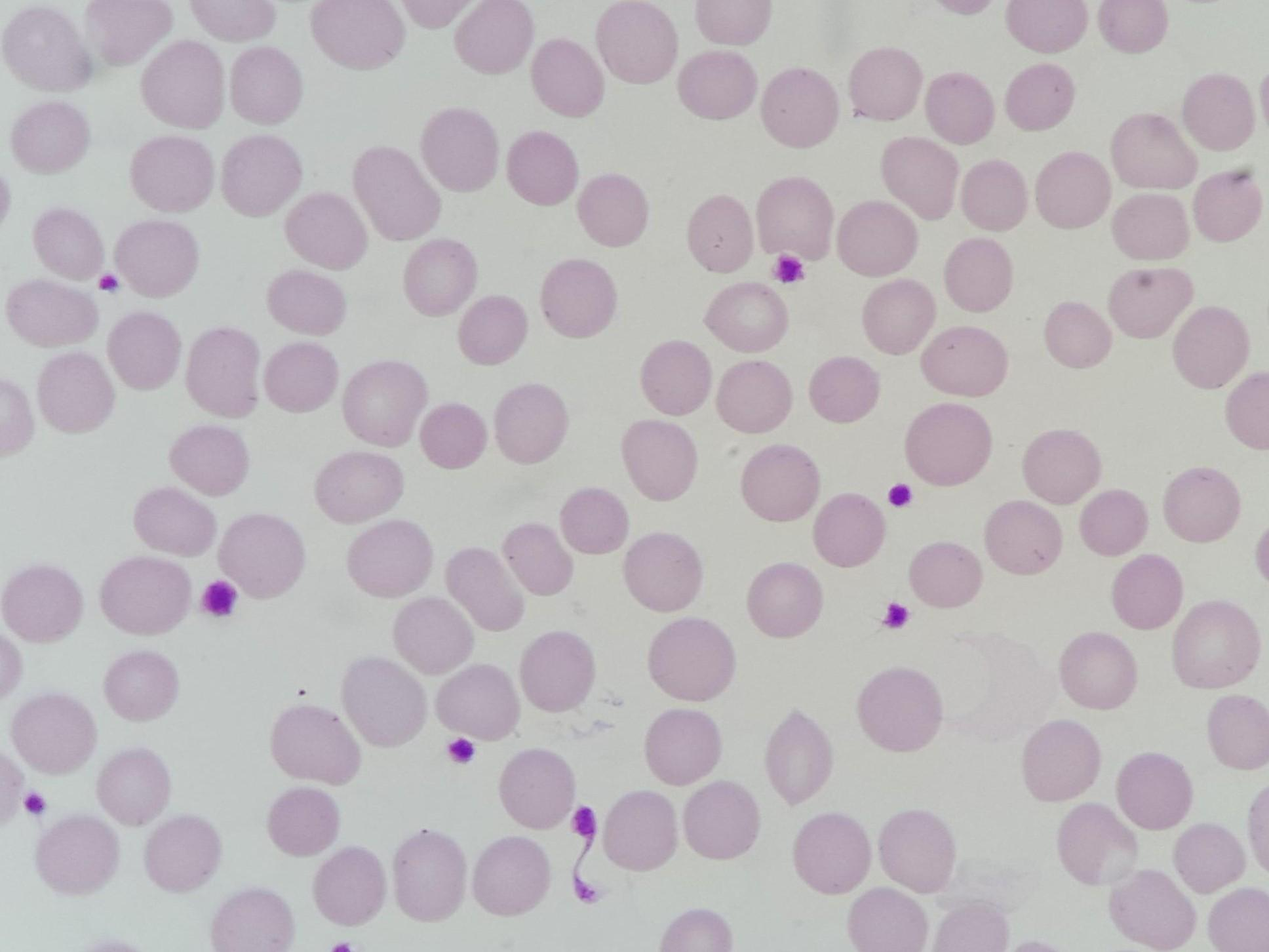Uninfected: (0, 9, 95, 97), (1171, 601, 1261, 690), (354, 147, 442, 237), (342, 658, 430, 748), (342, 360, 429, 447), (854, 668, 942, 754), (217, 515, 305, 600), (10, 692, 98, 777), (647, 618, 735, 703), (140, 39, 223, 129), (271, 705, 361, 788), (100, 555, 193, 635), (753, 175, 837, 262), (130, 134, 218, 217), (221, 135, 307, 219), (875, 809, 958, 896), (433, 663, 520, 745), (34, 815, 121, 897), (186, 328, 266, 417), (421, 108, 503, 194), (391, 594, 477, 676), (906, 404, 993, 485), (444, 547, 527, 631), (284, 193, 371, 273), (346, 518, 434, 597), (7, 278, 99, 353), (115, 219, 201, 299), (392, 834, 470, 922), (312, 0, 405, 73), (107, 311, 188, 394), (1057, 803, 1138, 886), (1108, 871, 1194, 949), (316, 451, 405, 526), (3, 565, 86, 645), (36, 351, 116, 434), (497, 748, 577, 831), (519, 631, 599, 713), (793, 814, 873, 896), (472, 837, 552, 918), (133, 485, 219, 560), (766, 713, 835, 806), (624, 533, 705, 612), (881, 138, 959, 220), (644, 709, 724, 788), (143, 815, 223, 894), (597, 4, 678, 82), (682, 782, 760, 863), (601, 792, 679, 873), (169, 423, 251, 500), (451, 0, 534, 76), (1113, 113, 1196, 189), (760, 68, 838, 148), (1023, 720, 1101, 800), (1173, 306, 1250, 387), (313, 846, 389, 928), (921, 326, 1006, 399), (97, 747, 174, 827), (1116, 752, 1193, 832), (622, 420, 699, 499), (10, 102, 90, 178), (233, 45, 306, 128), (1036, 153, 1113, 231), (541, 260, 619, 337), (1059, 632, 1137, 709), (263, 341, 342, 417), (984, 501, 1063, 577), (1109, 266, 1191, 339), (741, 446, 819, 522), (715, 360, 793, 436), (267, 269, 349, 341), (531, 39, 606, 117), (1181, 73, 1256, 151), (838, 202, 916, 277), (494, 385, 568, 463), (104, 650, 182, 724), (1163, 469, 1242, 542), (1111, 193, 1191, 265), (705, 283, 787, 353), (507, 130, 582, 206), (747, 563, 823, 638), (1024, 430, 1101, 504), (678, 51, 757, 123), (404, 240, 479, 315), (267, 785, 344, 858), (502, 522, 576, 597), (1111, 554, 1183, 631), (1191, 171, 1264, 246), (813, 495, 886, 570), (640, 341, 712, 417), (34, 205, 105, 282), (862, 280, 936, 353), (95, 0, 173, 69), (944, 236, 1014, 312), (687, 196, 755, 274), (849, 50, 922, 122), (959, 160, 1029, 235), (1174, 823, 1245, 896), (210, 890, 293, 952), (924, 73, 995, 145), (909, 541, 983, 610), (577, 175, 648, 246), (848, 887, 928, 950), (1005, 63, 1076, 133), (457, 296, 528, 366), (559, 486, 630, 556), (1079, 490, 1151, 559), (1205, 695, 1269, 771), (420, 403, 490, 470), (1045, 302, 1113, 370), (810, 357, 879, 424), (1206, 887, 1269, 952), (1008, 2, 1087, 53), (1100, 0, 1168, 52), (698, 1, 769, 45)
